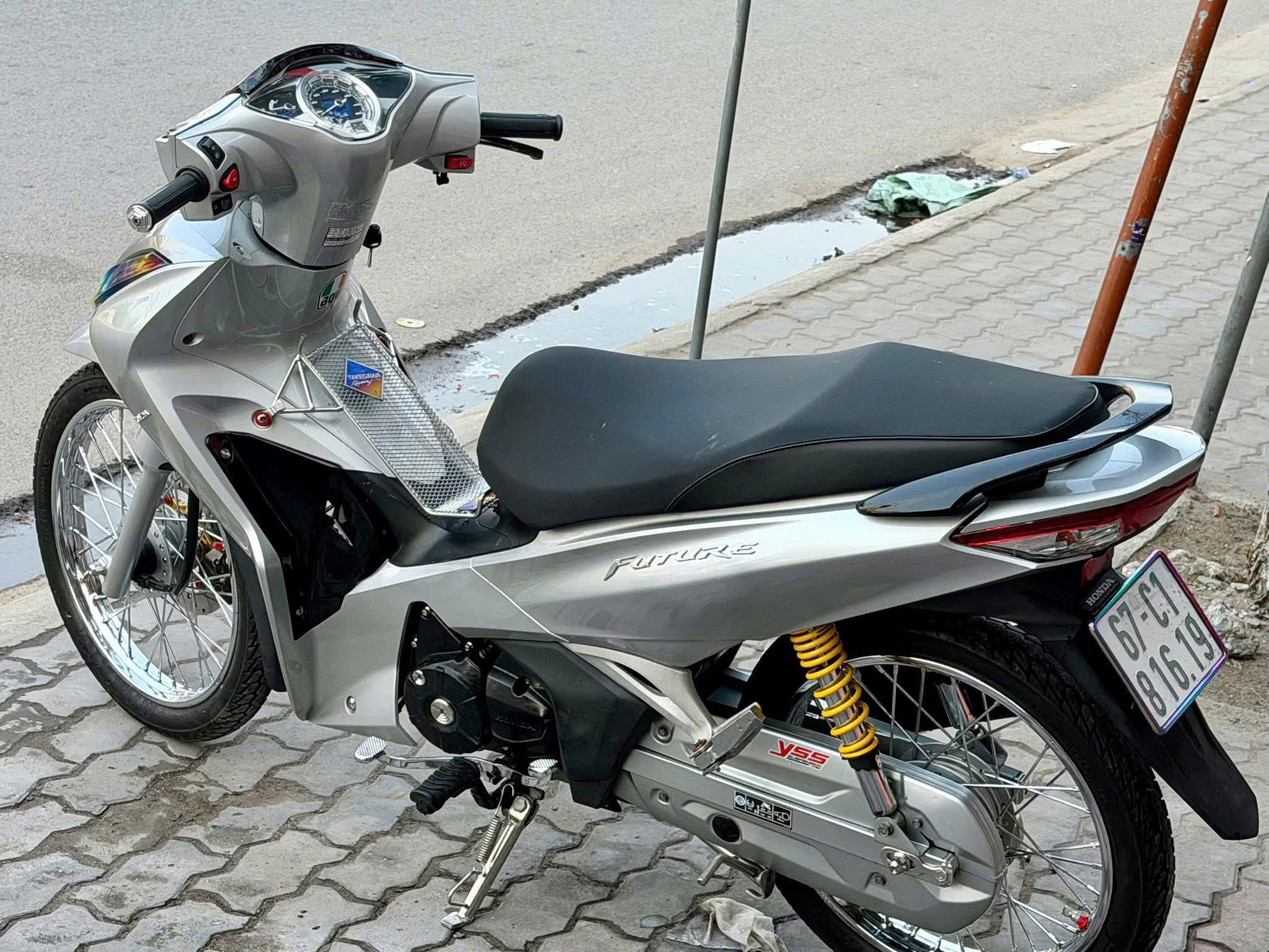Bien-so: (1095, 550, 1238, 733)
